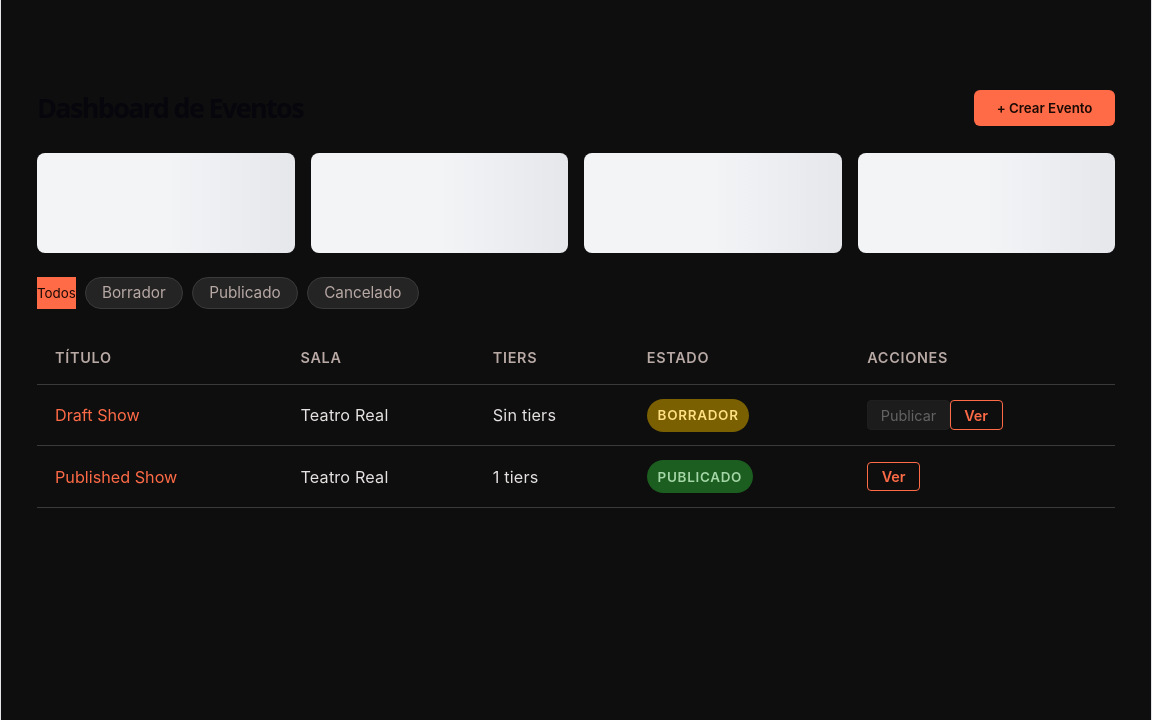
Test: EventsDashboard › filters events by status
This screenshot has width=1152, height=720.
// Use role to distinguish filter button from status badge
What coordinates should you click on to do the following:
click the button "Borrador"
I would click on:
 (134, 293)
Its box is [85,277,183,309].
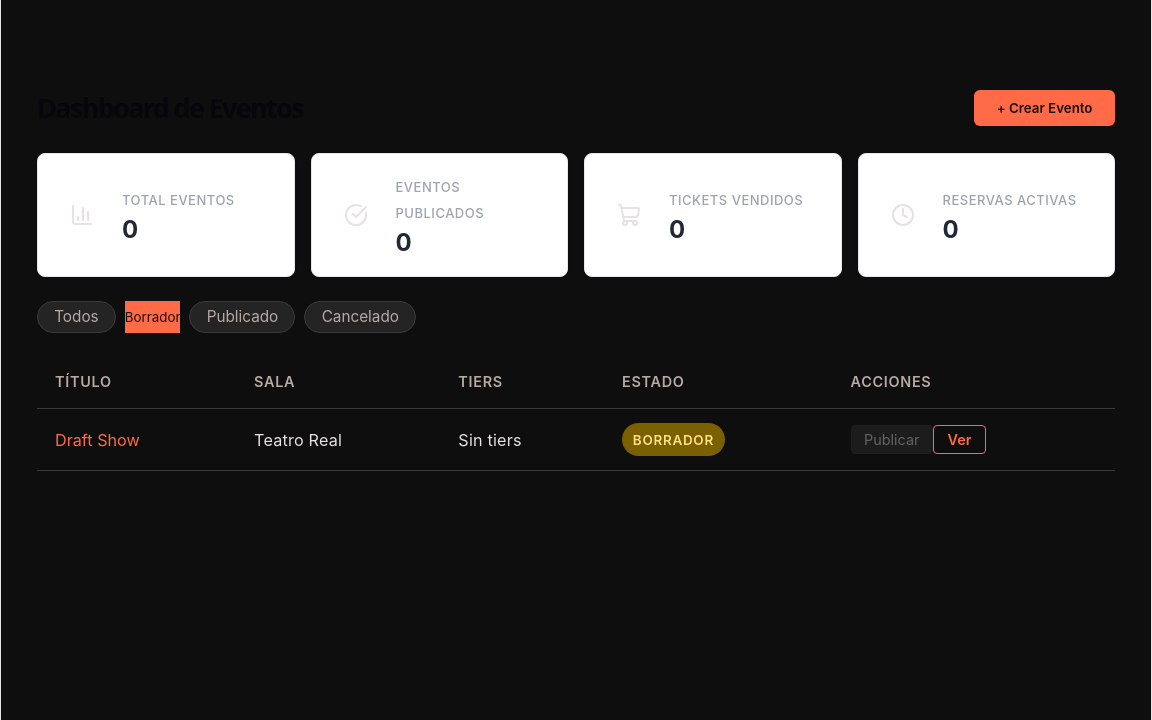
Expected: the button "Draft Show" is shown, [55,430,140,450]
Now the button "Published Show" is gone
